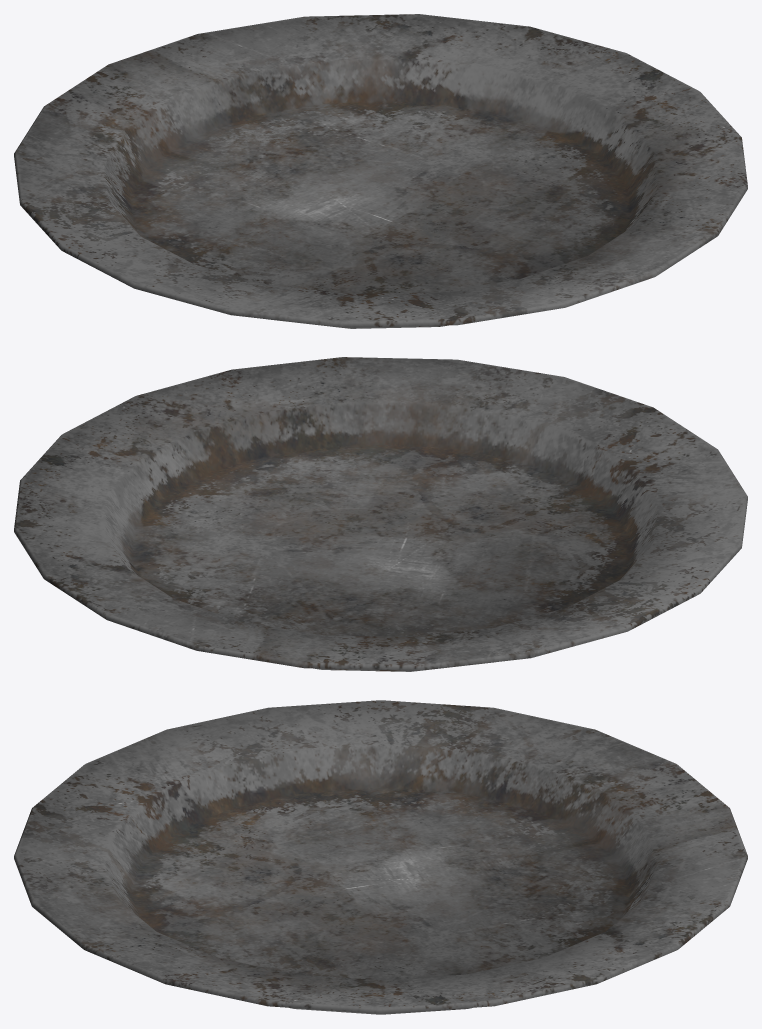
Rendered from CAMP_dishMetal.fbx.
The picture shows the model from 3 angles, top to bottom: view 1: azimuth 30°, elevation 25°; view 2: azimuth 150°, elevation 25°; view 3: azimuth 270°, elevation 25°; orthographic projection.
Visible parts, largest first — view 1: CAMP_dishMetal; view 2: CAMP_dishMetal; view 3: CAMP_dishMetal.
Boxes of the visible parts, x1=… form: CAMP_dishMetal: x1=14, y1=14, x2=747, y2=328; CAMP_dishMetal: x1=14, y1=357, x2=747, y2=671; CAMP_dishMetal: x1=14, y1=700, x2=747, y2=1014.
Bounding box in the file's own units: 33.9 × 2.11 × 33.9.
